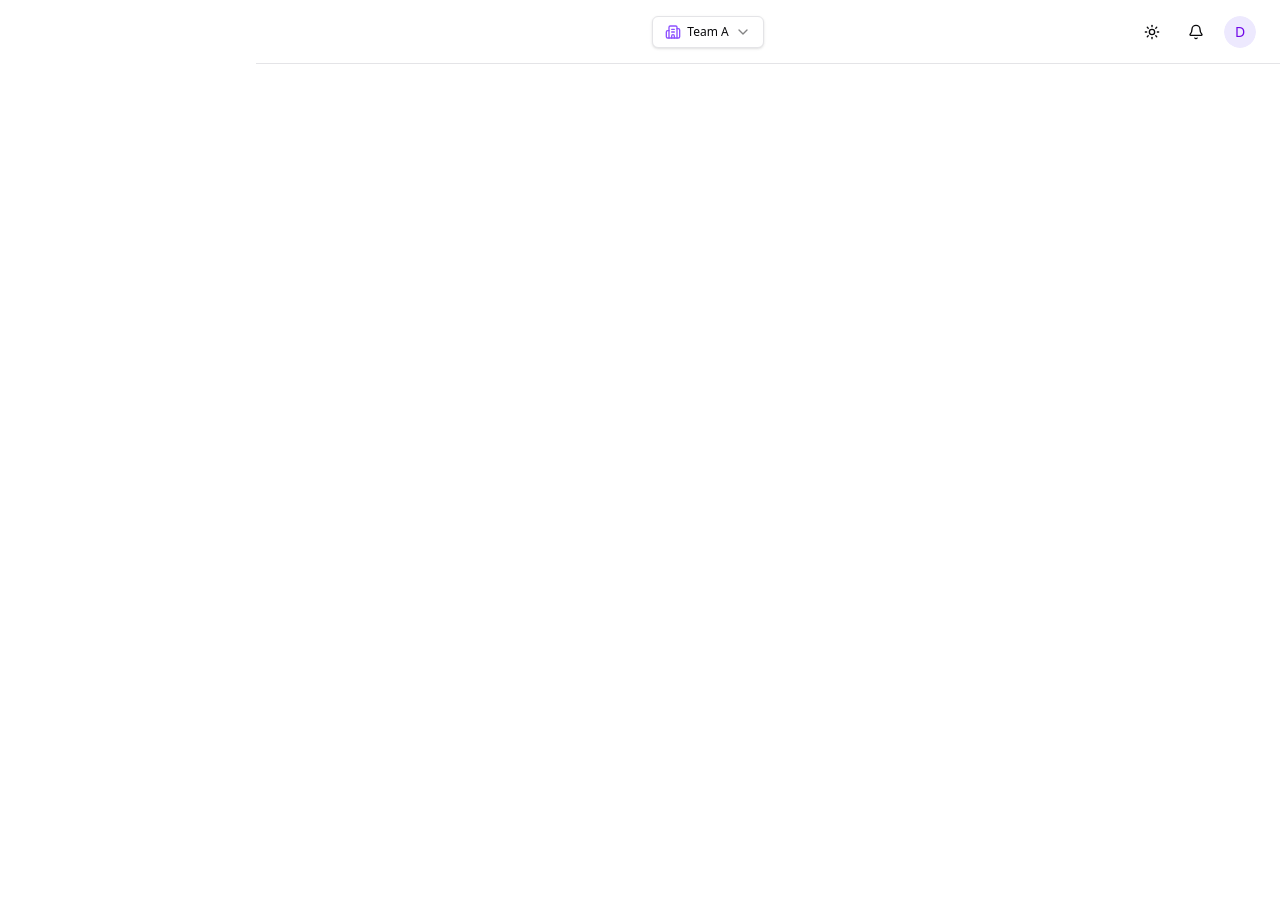
Header — New Workspace dialog v2 › explains what a workspace is
Expected: the text "Team A" is shown, [687,24,729,40]
Click the button with aria-label "switch workspace" at {"x": 708, "y": 32}, box [652,16,764,48]
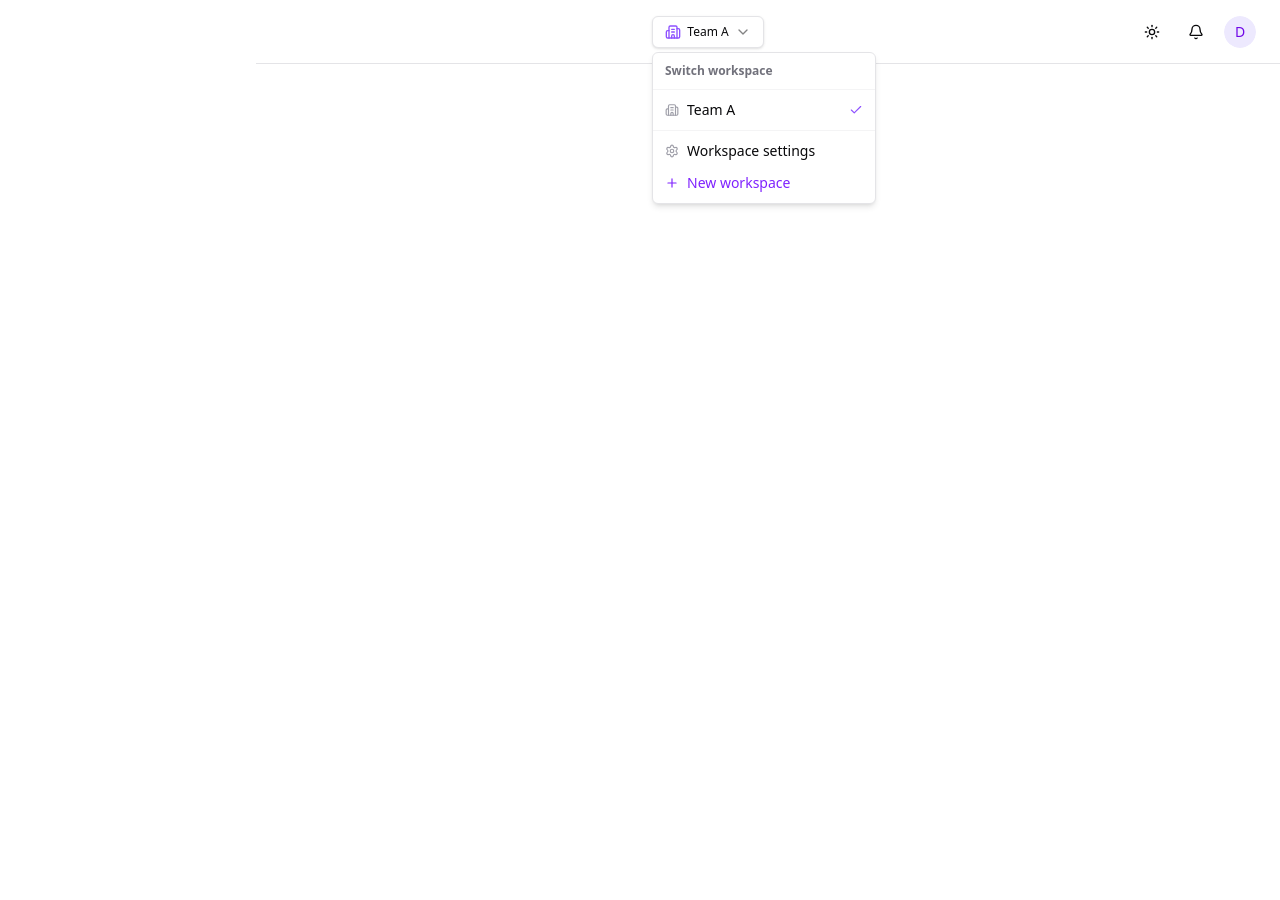
Click the menu item "New workspace" at {"x": 728, "y": 182}, box [665,173,790,192]
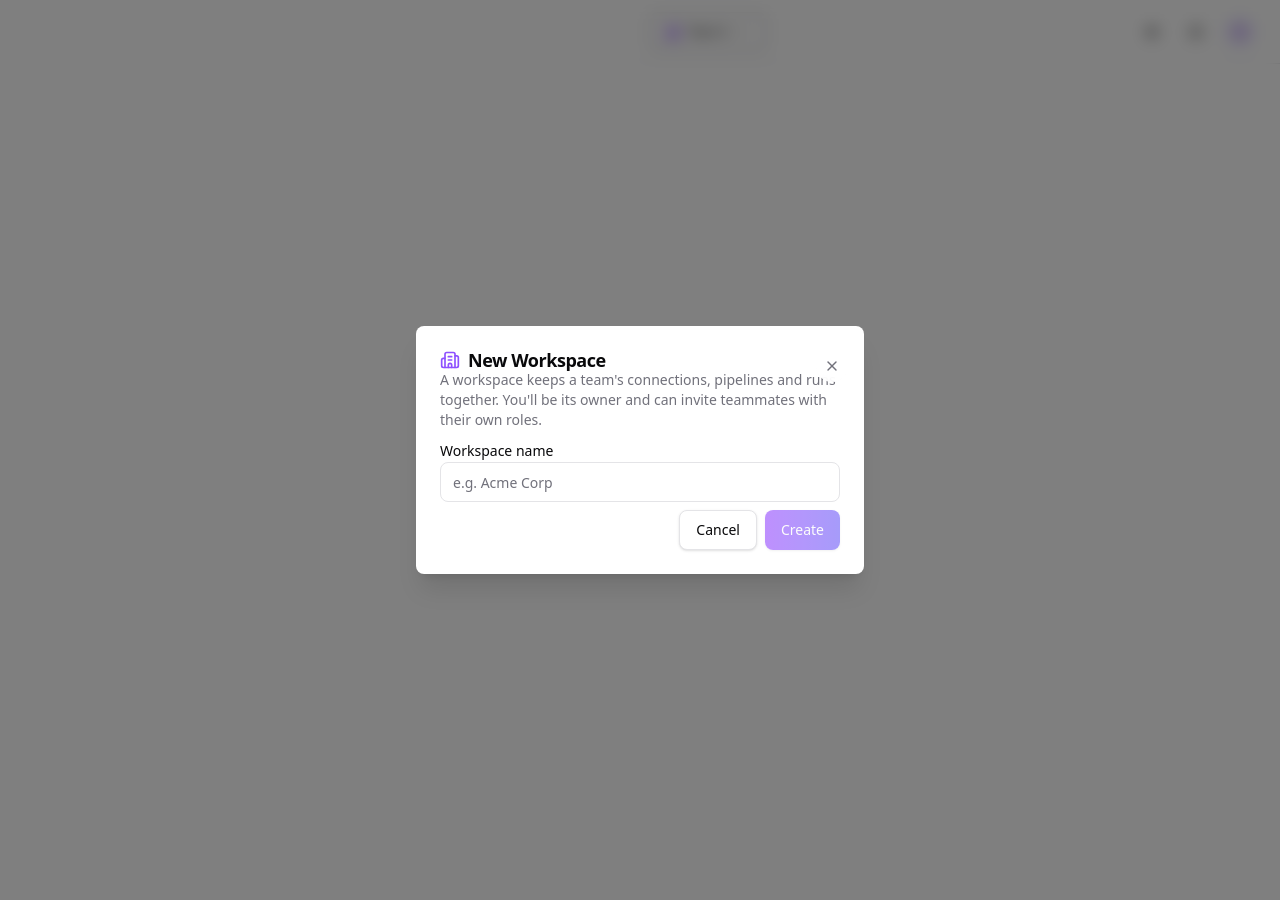
Expected: the text "connections, pipelines" is shown, [440,370,836,429]
